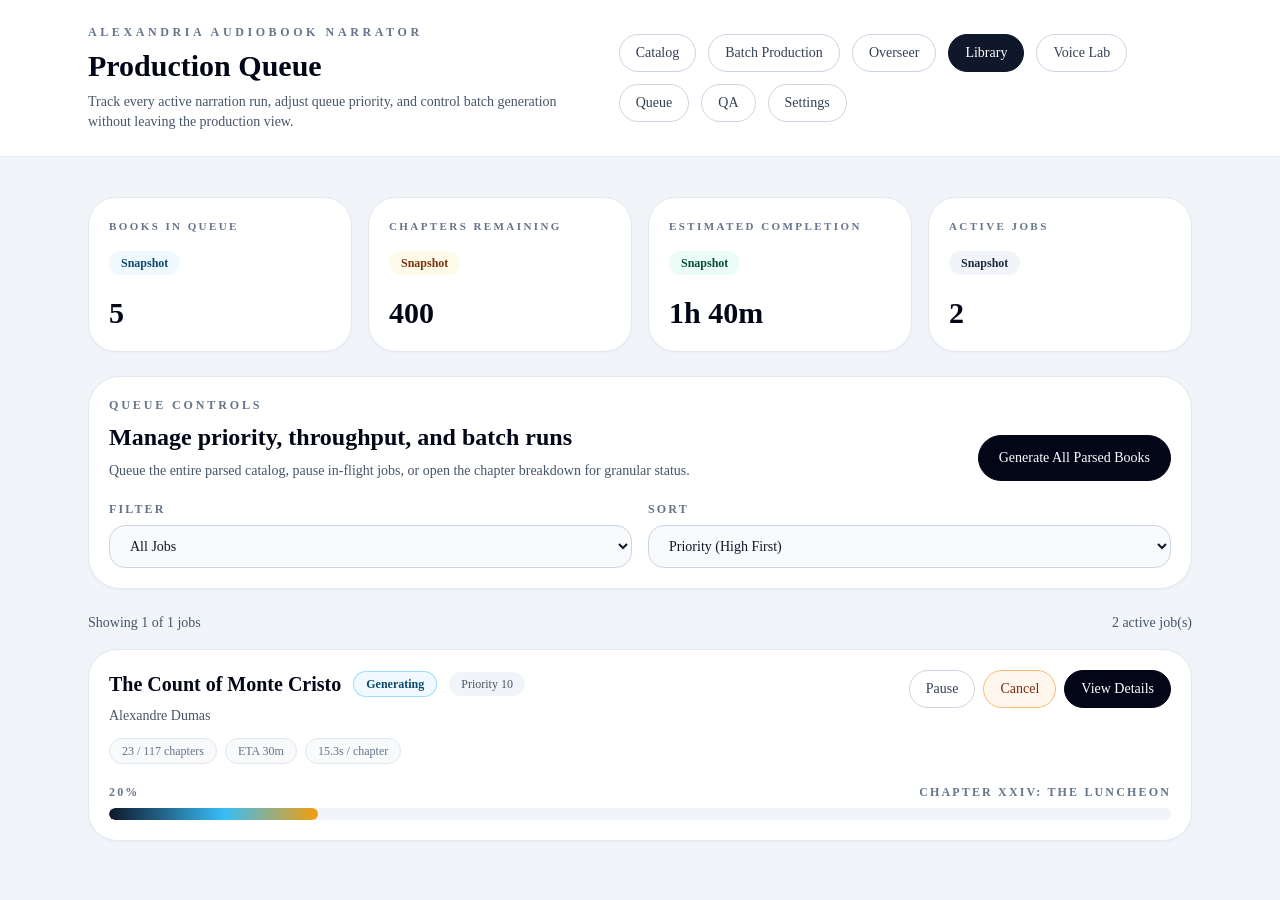
Test: Queue page › posts queue actions and refreshes the list
Click the button "Pause".
click(942, 688)  # box [909,670,976,708]
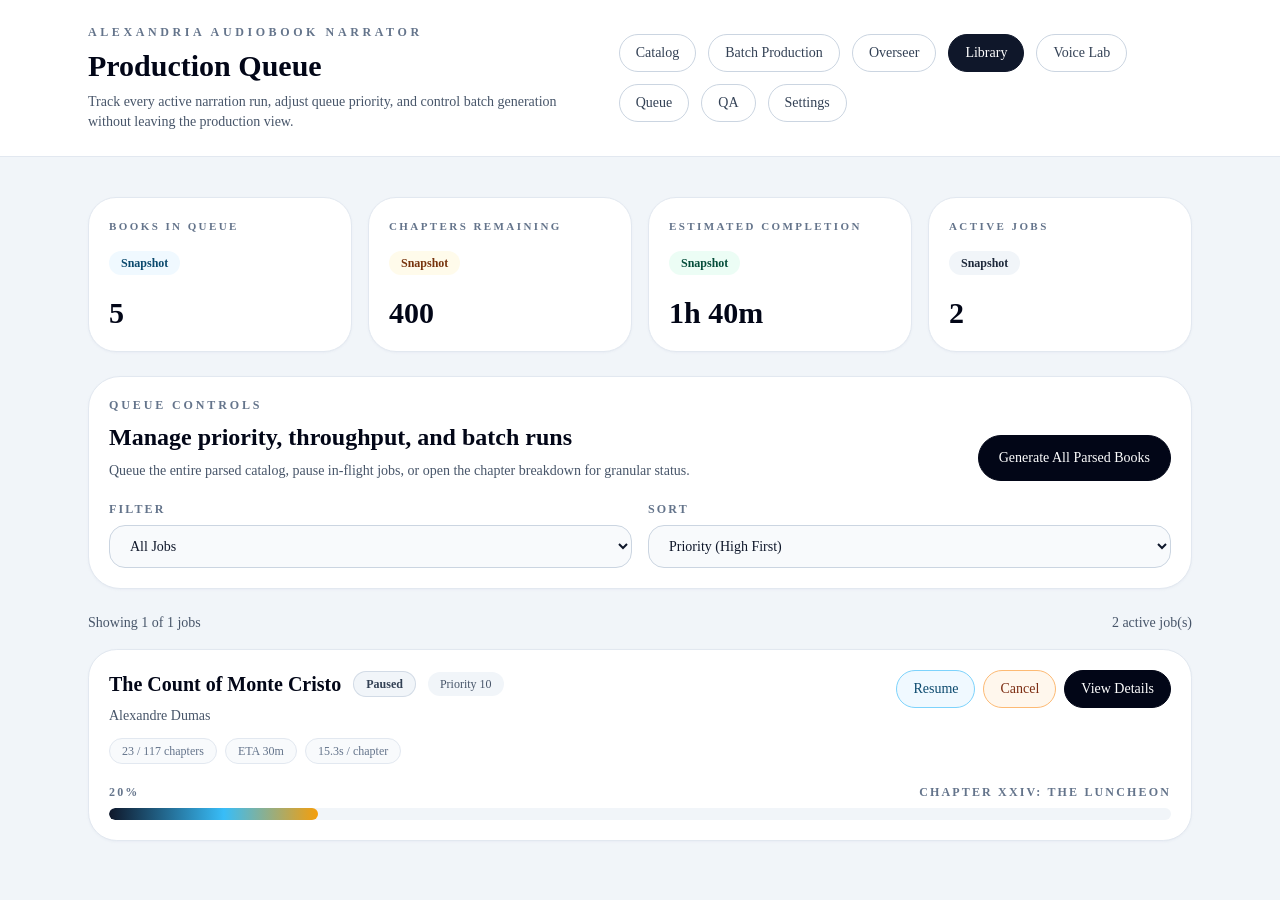
Expected: the text "Paused" is shown, [353,670,416,696]
Expected: the text "Resume" is shown, [896,670,976,708]
